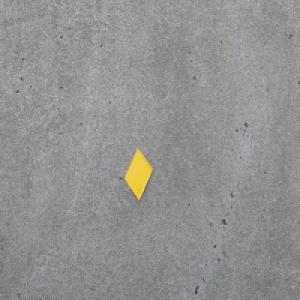PlasticPart: (124, 147, 153, 201)
